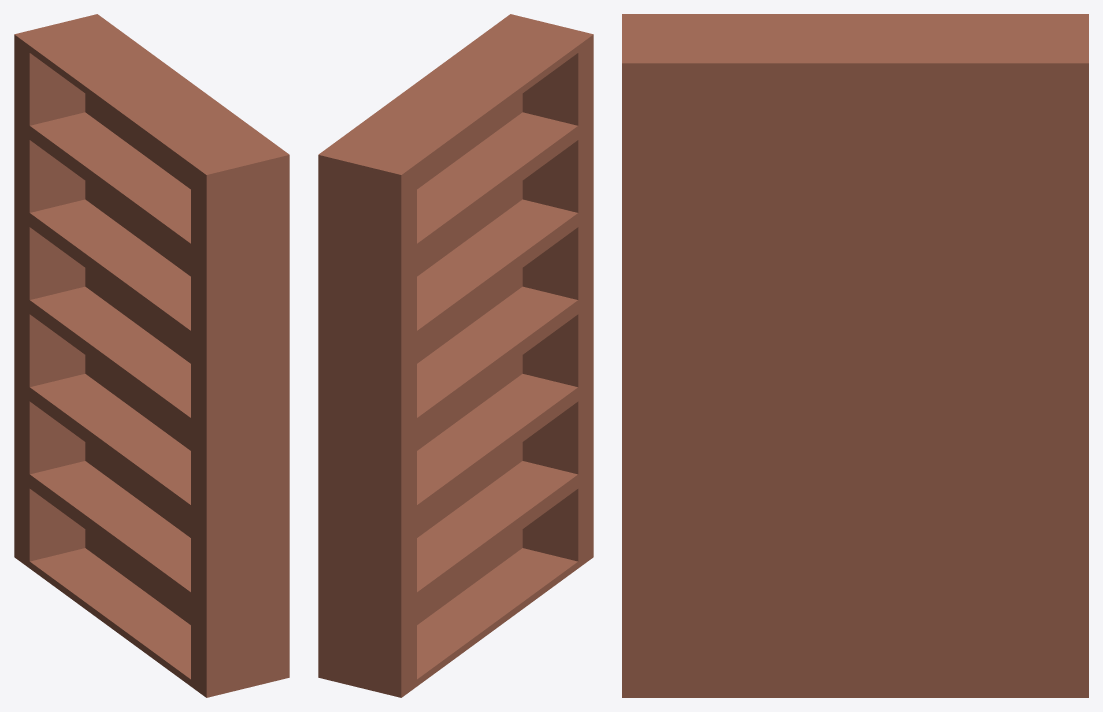
File: bookshelf_empty.glb
The picture shows the model from 3 angles, left to right: view 1: azimuth 30°, elevation 25°; view 2: azimuth 150°, elevation 25°; view 3: azimuth 270°, elevation 25°; orthographic projection. The views are drawn at different scales.
Parts seen in each view (by area): view 1: shelf; view 2: shelf; view 3: shelf.
Part boxes in pixels (x1,y1,x2,y2): shelf: (14, 14, 289, 697); shelf: (318, 14, 593, 697); shelf: (622, 14, 1088, 697).
Bounding box in the file's own units: 0.3048 × 1.83 × 1.22.
